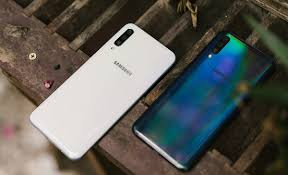samsung: (27, 20, 176, 164)
